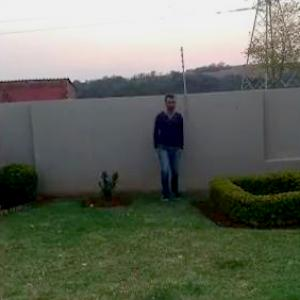follow: (149, 88, 185, 210)
